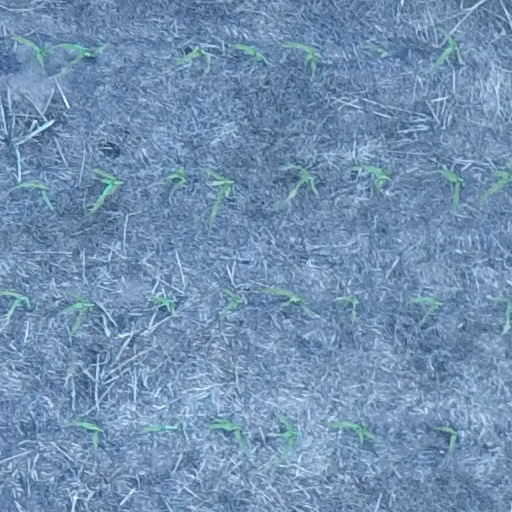planta: (200, 165, 237, 227), (265, 411, 302, 472), (255, 283, 316, 319), (85, 165, 125, 217), (54, 39, 107, 78), (59, 287, 97, 338), (278, 162, 321, 206), (347, 159, 395, 196), (205, 415, 250, 453), (280, 38, 324, 76), (431, 165, 468, 209), (8, 31, 53, 67), (431, 23, 465, 70), (325, 418, 379, 444), (65, 417, 104, 452), (406, 292, 445, 326), (169, 43, 215, 71), (13, 178, 54, 207), (216, 285, 245, 324), (229, 39, 270, 64), (433, 422, 462, 455), (335, 292, 362, 326), (139, 418, 186, 435), (149, 291, 179, 317), (164, 163, 190, 191), (361, 41, 387, 57)
